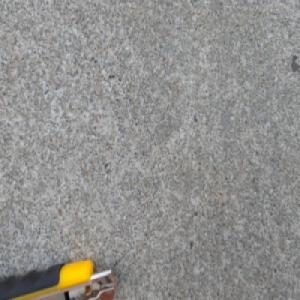Cutter: (0, 251, 116, 300)
